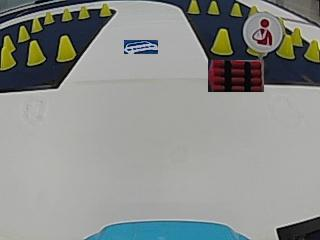cone: (211, 28, 233, 55), (56, 35, 76, 62), (0, 36, 16, 69), (27, 40, 46, 65), (276, 35, 294, 59), (304, 38, 319, 62), (18, 25, 30, 41), (99, 3, 111, 17), (78, 5, 90, 19), (31, 18, 43, 31), (188, 1, 200, 14), (230, 3, 242, 16), (61, 8, 72, 21), (208, 1, 219, 14), (44, 11, 54, 24)
patient: (246, 13, 280, 51)
